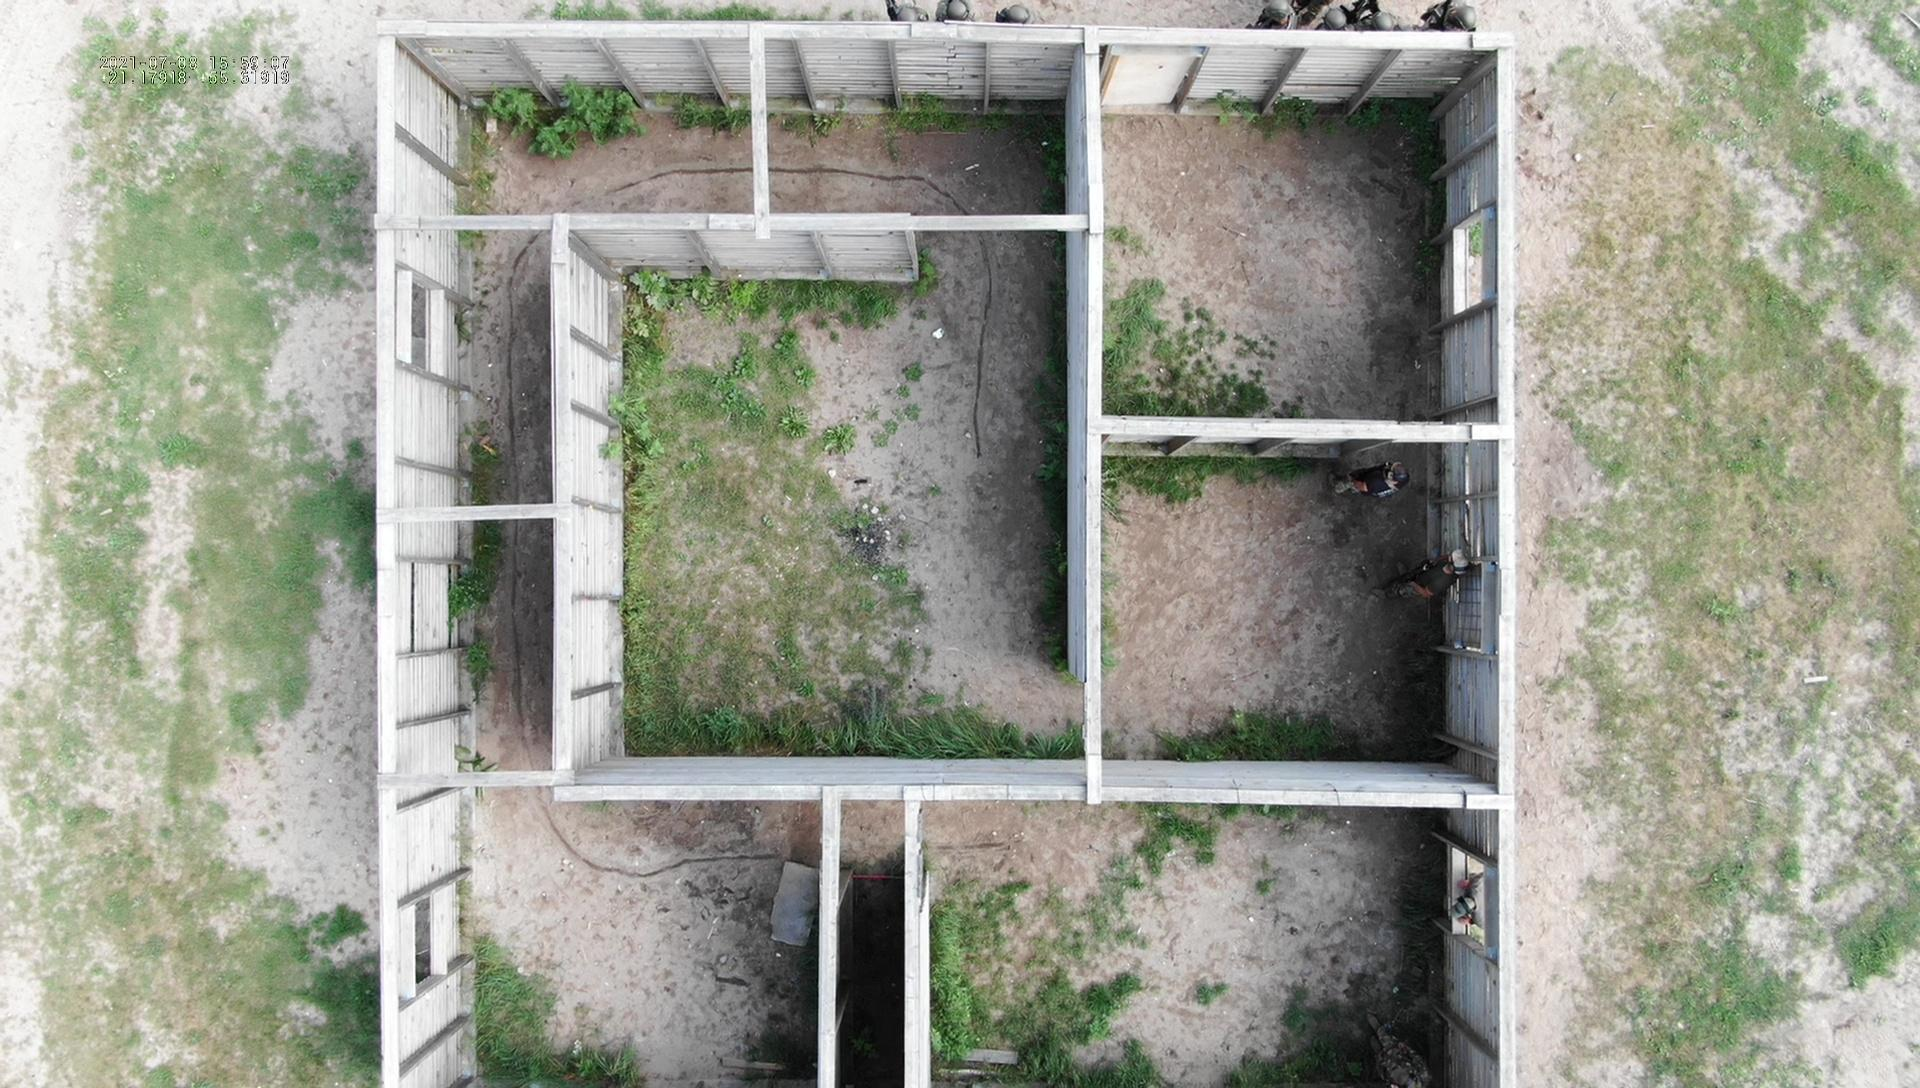Soldier: (1369, 534, 1485, 607), (1331, 448, 1429, 516)
